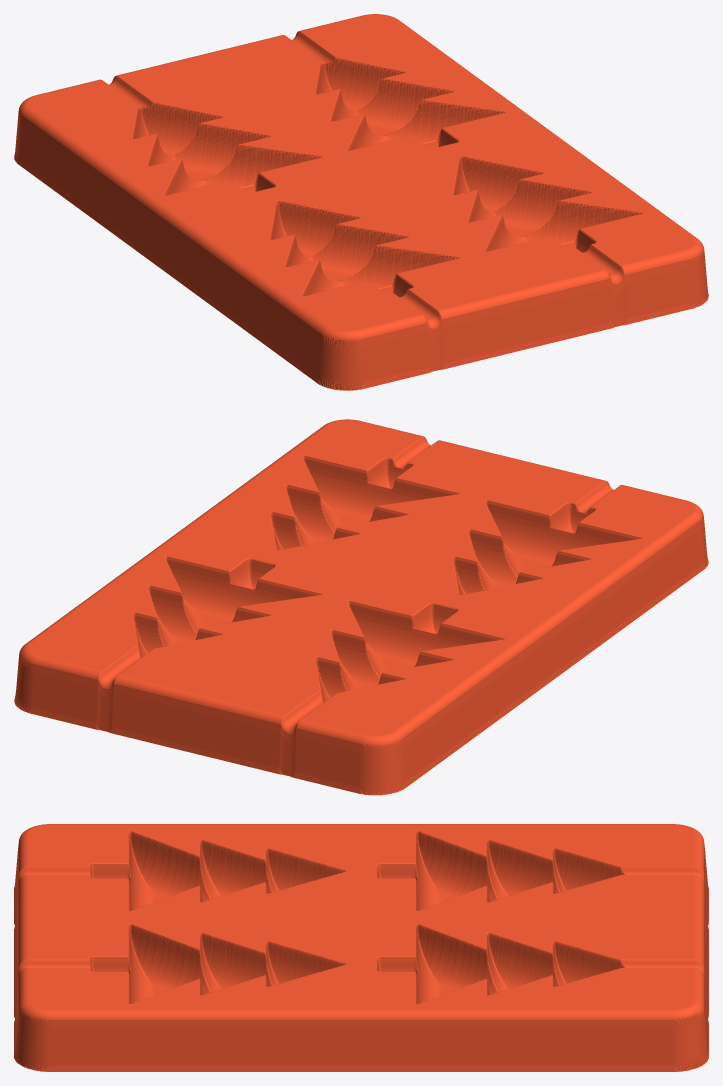
File: mold.glb
3 views of the same model, one above another, from view 1: azimuth 30°, elevation 25°; view 2: azimuth 150°, elevation 25°; view 3: azimuth 270°, elevation 25° (orthographic). The views are drawn at different scales.
Visible parts, largest first — view 1: geometry_0; view 2: geometry_0; view 3: geometry_0.
Part boxes in pixels (x1,y1,x2,y2): geometry_0: (14,14,708,390); geometry_0: (14,419,708,795); geometry_0: (14,824,708,1071).
Size of the model in its own units: 0.1162 by 0.0155 by 0.1735.
